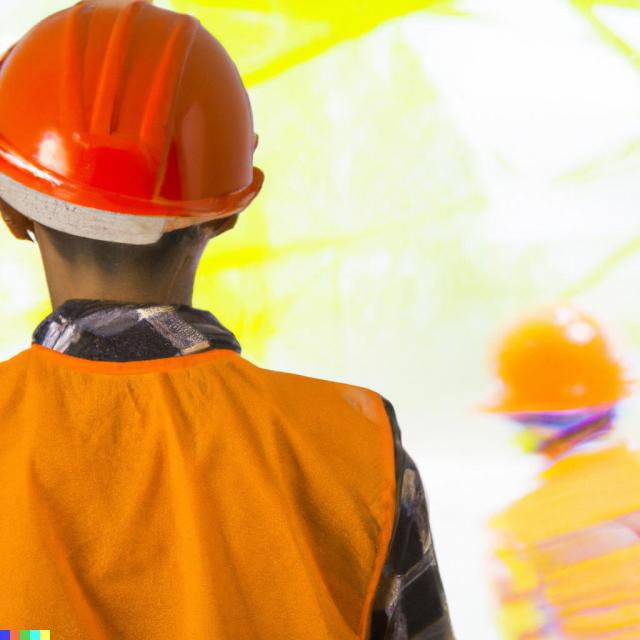Reflective-Jacket: (0, 313, 419, 631), (482, 452, 638, 640)
Safety-Helmet: (0, 7, 270, 237), (472, 294, 637, 426)
